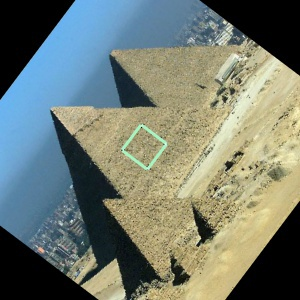square: (118, 122, 169, 170)
